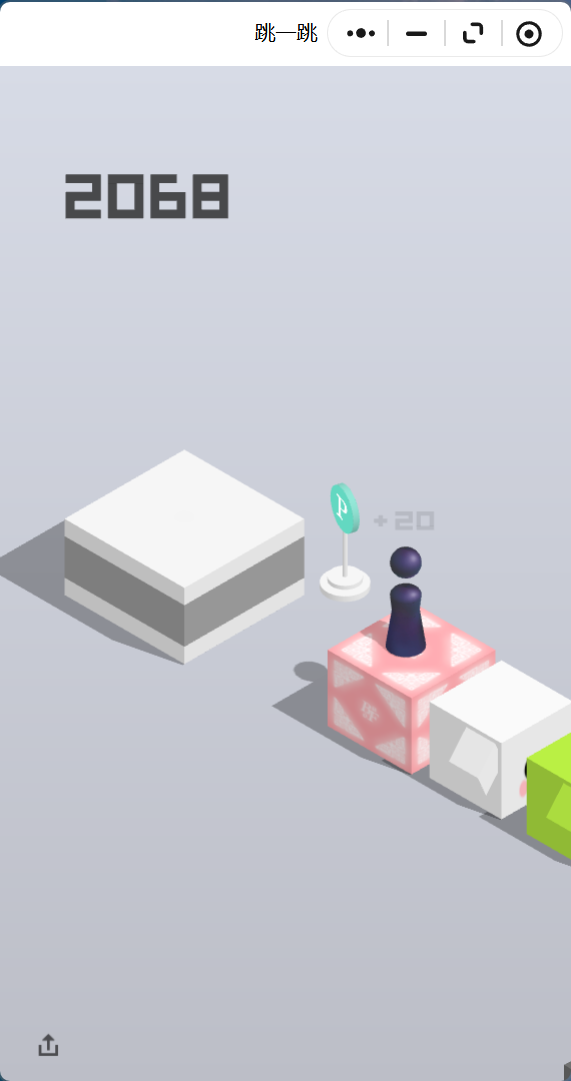piece: (391, 547, 420, 654)
target: (64, 450, 304, 588)
